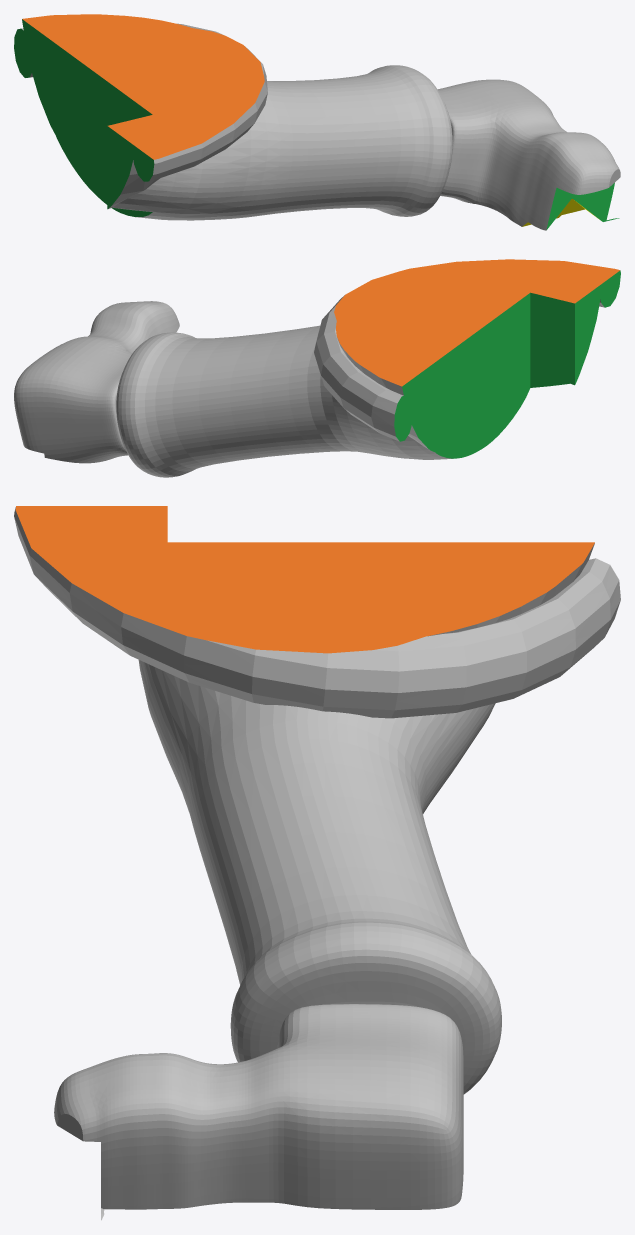
Rendered from jambe2.glb.
3 renders of one model, top to bottom at view 1: azimuth 30°, elevation 25°; view 2: azimuth 150°, elevation 25°; view 3: azimuth 270°, elevation 25°, orthographic. The views are drawn at different scales.
Bounding box in the file's own units: 0.0371 × 0.0145 × 0.0242.
